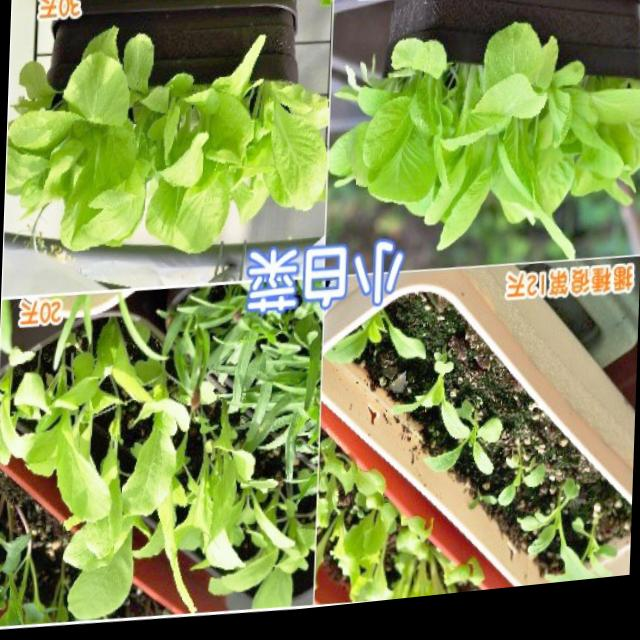chinese_cabbage: (12, 35, 314, 262), (353, 20, 630, 246)
